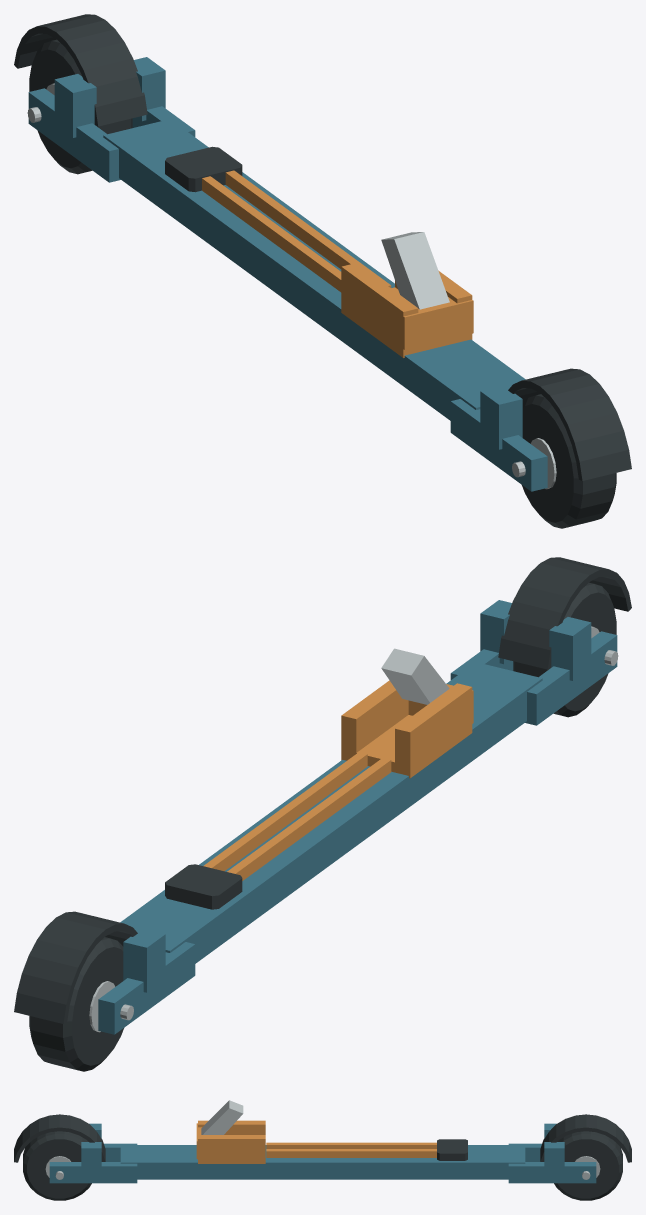
3 views of the same model, one above another, from view 1: azimuth 30°, elevation 25°; view 2: azimuth 150°, elevation 25°; view 3: azimuth 270°, elevation 25° (orthographic). The views are drawn at different scales.
Visible parts, largest first — view 1: WholeLongNarrowSpineAndTwinOpenForkEnds, WholeWeldedOpenToeHousing, WholeRearCurvedMudguard, WholeFrontCurvedMudguard, WholeFrontFiniteTreadWheel, WholeRaisedToeLatch, WholeLeftSoleGuideRib, WholeRightSoleGuideRib, WholeRearFiniteTreadWheel, WholeRearHeelDatum, WholeFrontLeftGuardRoot, WholeRearLeftGuardRoot (+1 smaller); view 2: WholeLongNarrowSpineAndTwinOpenForkEnds, WholeWeldedOpenToeHousing, WholeFrontCurvedMudguard, WholeRearCurvedMudguard, WholeRearFiniteTreadWheel, WholeLeftSoleGuideRib, WholeRightSoleGuideRib, WholeFrontFiniteTreadWheel, WholeRearHeelDatum, WholeRaisedToeLatch, WholeRearLeftGuardRoot, WholeFrontLeftGuardRoot (+1 smaller); view 3: WholeLongNarrowSpineAndTwinOpenForkEnds, WholeFrontFiniteTreadWheel, WholeRearFiniteTreadWheel, WholeWeldedOpenToeHousing, WholeFrontCurvedMudguard, WholeRearCurvedMudguard, WholeRightSoleGuideRib, WholeLeftSoleGuideRib, WholeRaisedToeLatch, WholeRearHeelDatum, WholeFrontRightGuardRoot, WholeRearRightGuardRoot.
Boxes of the visible parts, <box> form: WholeLongNarrowSpineAndTwinOpenForkEnds: <box>28,88,547,491</box>; WholeWeldedOpenToeHousing: <box>341,263,473,357</box>; WholeRearCurvedMudguard: <box>14,14,147,126</box>; WholeFrontCurvedMudguard: <box>508,368,631,480</box>; WholeFrontFiniteTreadWheel: <box>522,394,616,528</box>; WholeRaisedToeLatch: <box>381,232,449,309</box>; WholeLeftSoleGuideRib: <box>202,176,341,292</box>; WholeRightSoleGuideRib: <box>225,170,391,287</box>; WholeRearFiniteTreadWheel: <box>29,39,132,174</box>; WholeRearHeelDatum: <box>165,146,242,192</box>; WholeFrontLeftGuardRoot: <box>480,385,522,449</box>; WholeRearLeftGuardRoot: <box>54,74,96,137</box>; WholeLongNarrowSpineAndTwinOpenForkEnds: <box>98,631,617,1034</box>; WholeWeldedOpenToeHousing: <box>341,680,473,778</box>; WholeFrontCurvedMudguard: <box>498,557,631,669</box>; WholeRearCurvedMudguard: <box>14,911,137,1023</box>; WholeRearFiniteTreadWheel: <box>29,937,123,1071</box>; WholeLeftSoleGuideRib: <box>227,758,391,880</box>; WholeRightSoleGuideRib: <box>203,752,367,871</box>; WholeFrontFiniteTreadWheel: <box>513,582,616,717</box>; WholeRearHeelDatum: <box>165,864,242,909</box>; WholeRaisedToeLatch: <box>381,648,449,704</box>; WholeRearLeftGuardRoot: <box>123,928,165,992</box>; WholeFrontLeftGuardRoot: <box>549,617,591,680</box>; WholeLongNarrowSpineAndTwinOpenForkEnds: <box>49,1143,596,1183</box>; WholeFrontFiniteTreadWheel: <box>23,1131,91,1200</box>; WholeRearFiniteTreadWheel: <box>554,1131,622,1200</box>; WholeWeldedOpenToeHousing: <box>196,1120,265,1163</box>; WholeFrontCurvedMudguard: <box>14,1114,105,1162</box>; WholeRearCurvedMudguard: <box>540,1114,631,1162</box>; WholeRightSoleGuideRib: <box>266,1149,436,1157</box>; WholeLeftSoleGuideRib: <box>266,1142,436,1148</box>; WholeRaisedToeLatch: <box>201,1100,243,1134</box>; WholeRearHeelDatum: <box>437,1139,467,1160</box>; WholeFrontRightGuardRoot: <box>81,1142,101,1172</box>; WholeRearRightGuardRoot: <box>544,1142,564,1172</box>.
Size of the model in its own units: 0.092 by 0.151 by 0.9158.
